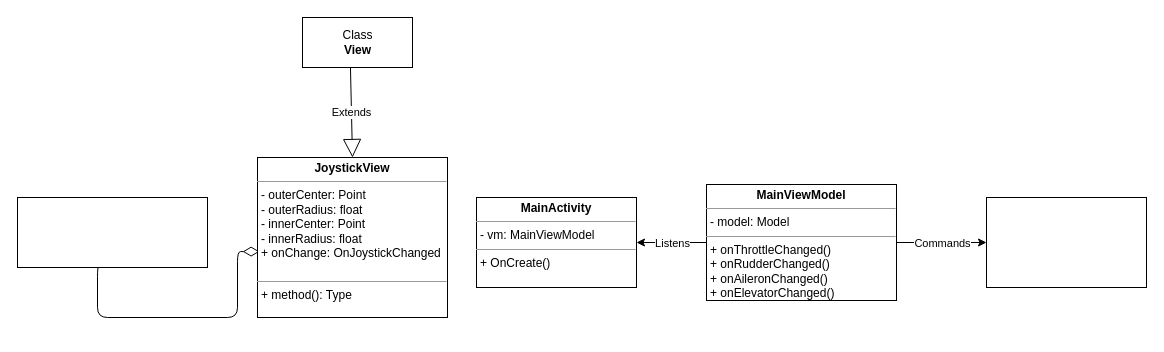
Some shapes in this 1164 by 352 pixel diagram are drawn without their labels. The box of each missing label's shape, as (x1, y1, x2, y2) in pixels:
<<Interface>> OnJoystickChanged + invoke(float, float): (16, 196, 208, 268)
Model - client: Socket + connect() + send(): (986, 196, 1146, 288)
